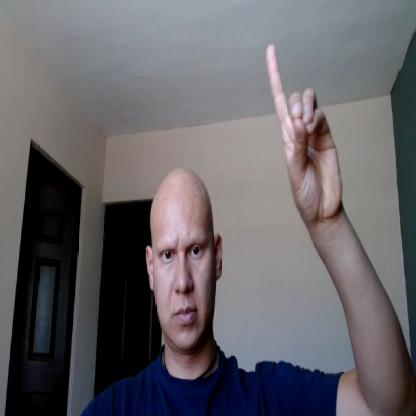D: (266, 44, 342, 217)
